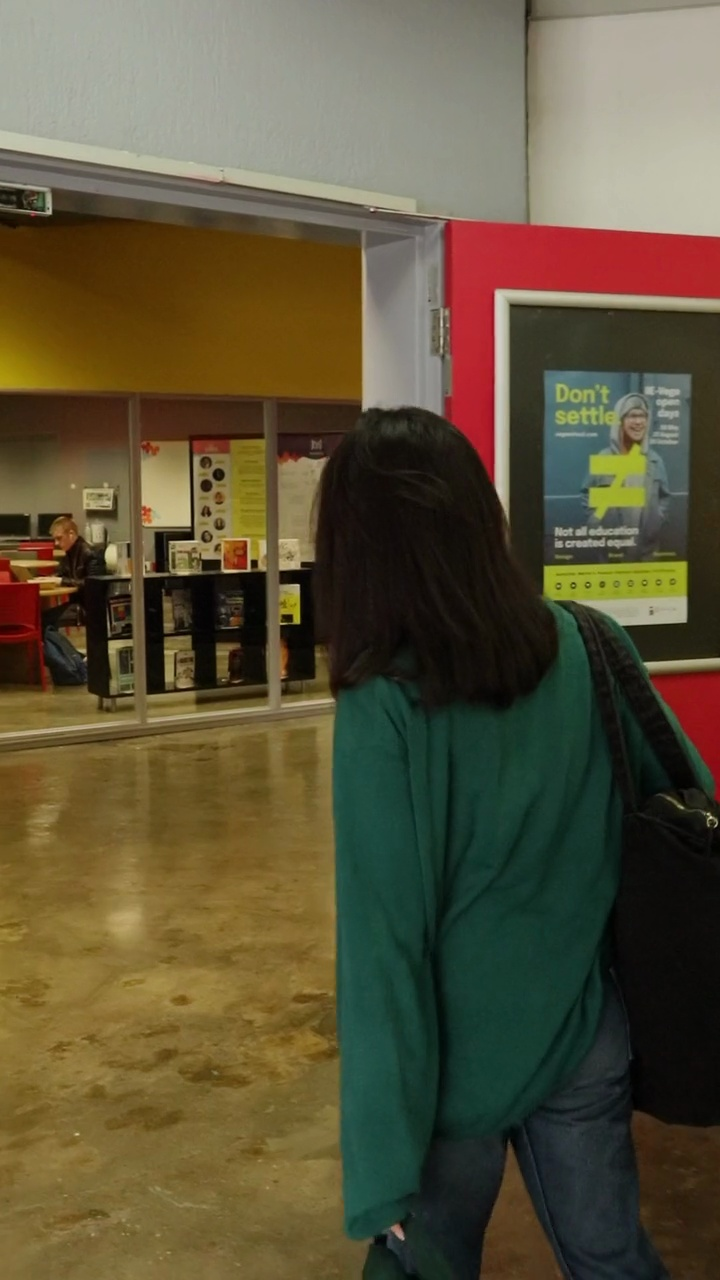dates_box: (136, 567, 270, 694)
electronics: (16, 124, 428, 722), (499, 275, 720, 859), (140, 384, 283, 544)
perfume_bottle: (127, 0, 720, 625), (348, 1, 720, 711)
